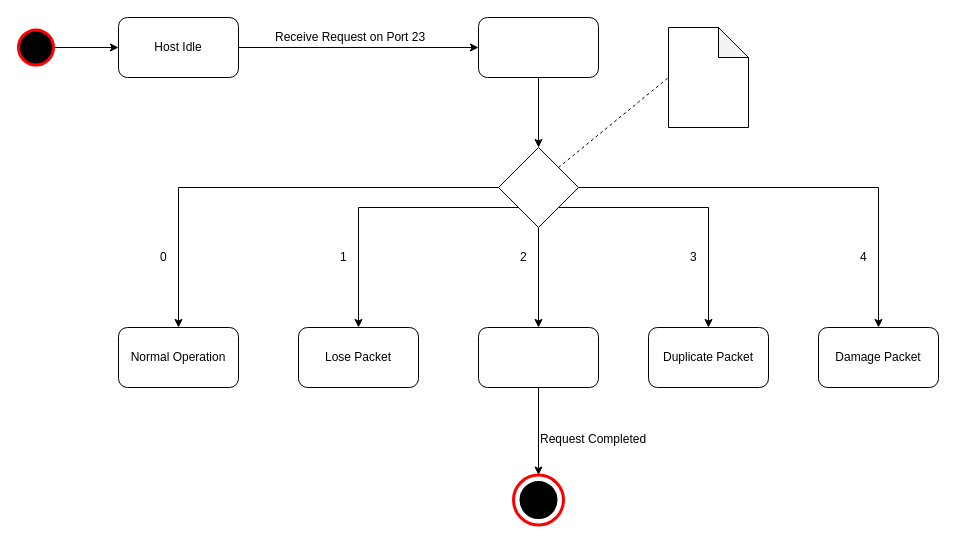
This 956x544 diagram has some shape labels left out. The box of each missing label's shape, as (x1, y1, x2, y2) in pixels:
Delay Packet: (478, 326, 598, 388)
Start Error Simulator: (478, 16, 598, 78)
User Input: 0 1 2 3 4: (668, 26, 748, 128)
